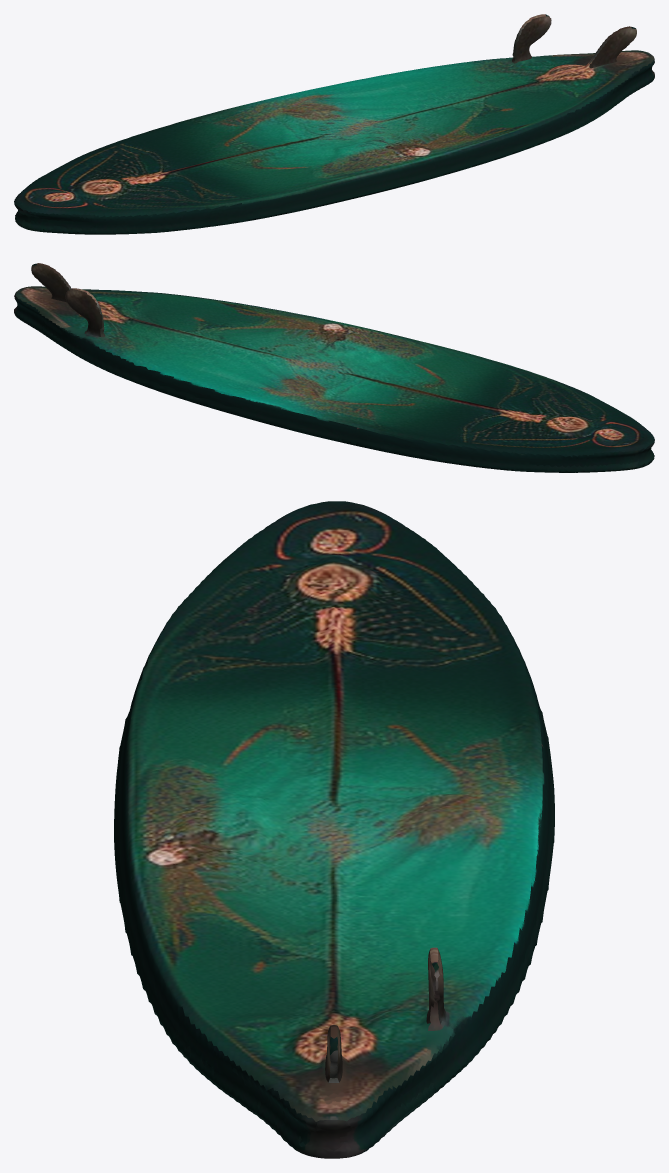
The model's file is vehicle-beach-hoverboard-mesh.glb.
The picture shows the model from 3 angles, top to bottom: view 1: azimuth 30°, elevation 25°; view 2: azimuth 150°, elevation 25°; view 3: azimuth 270°, elevation 25°; orthographic projection. The views are drawn at different scales.
Visible parts, largest first — view 1: tmp_5zrs49_.ply; view 2: tmp_5zrs49_.ply; view 3: tmp_5zrs49_.ply.
Part boxes in pixels (box(x1,y1,x2,y2)): tmp_5zrs49_.ply: box(14, 14, 654, 234); tmp_5zrs49_.ply: box(14, 263, 654, 472); tmp_5zrs49_.ply: box(114, 501, 554, 1158).
Size of the model in its own units: 0.9863 by 0.0933 by 0.298.
1 material, 1 textured.
